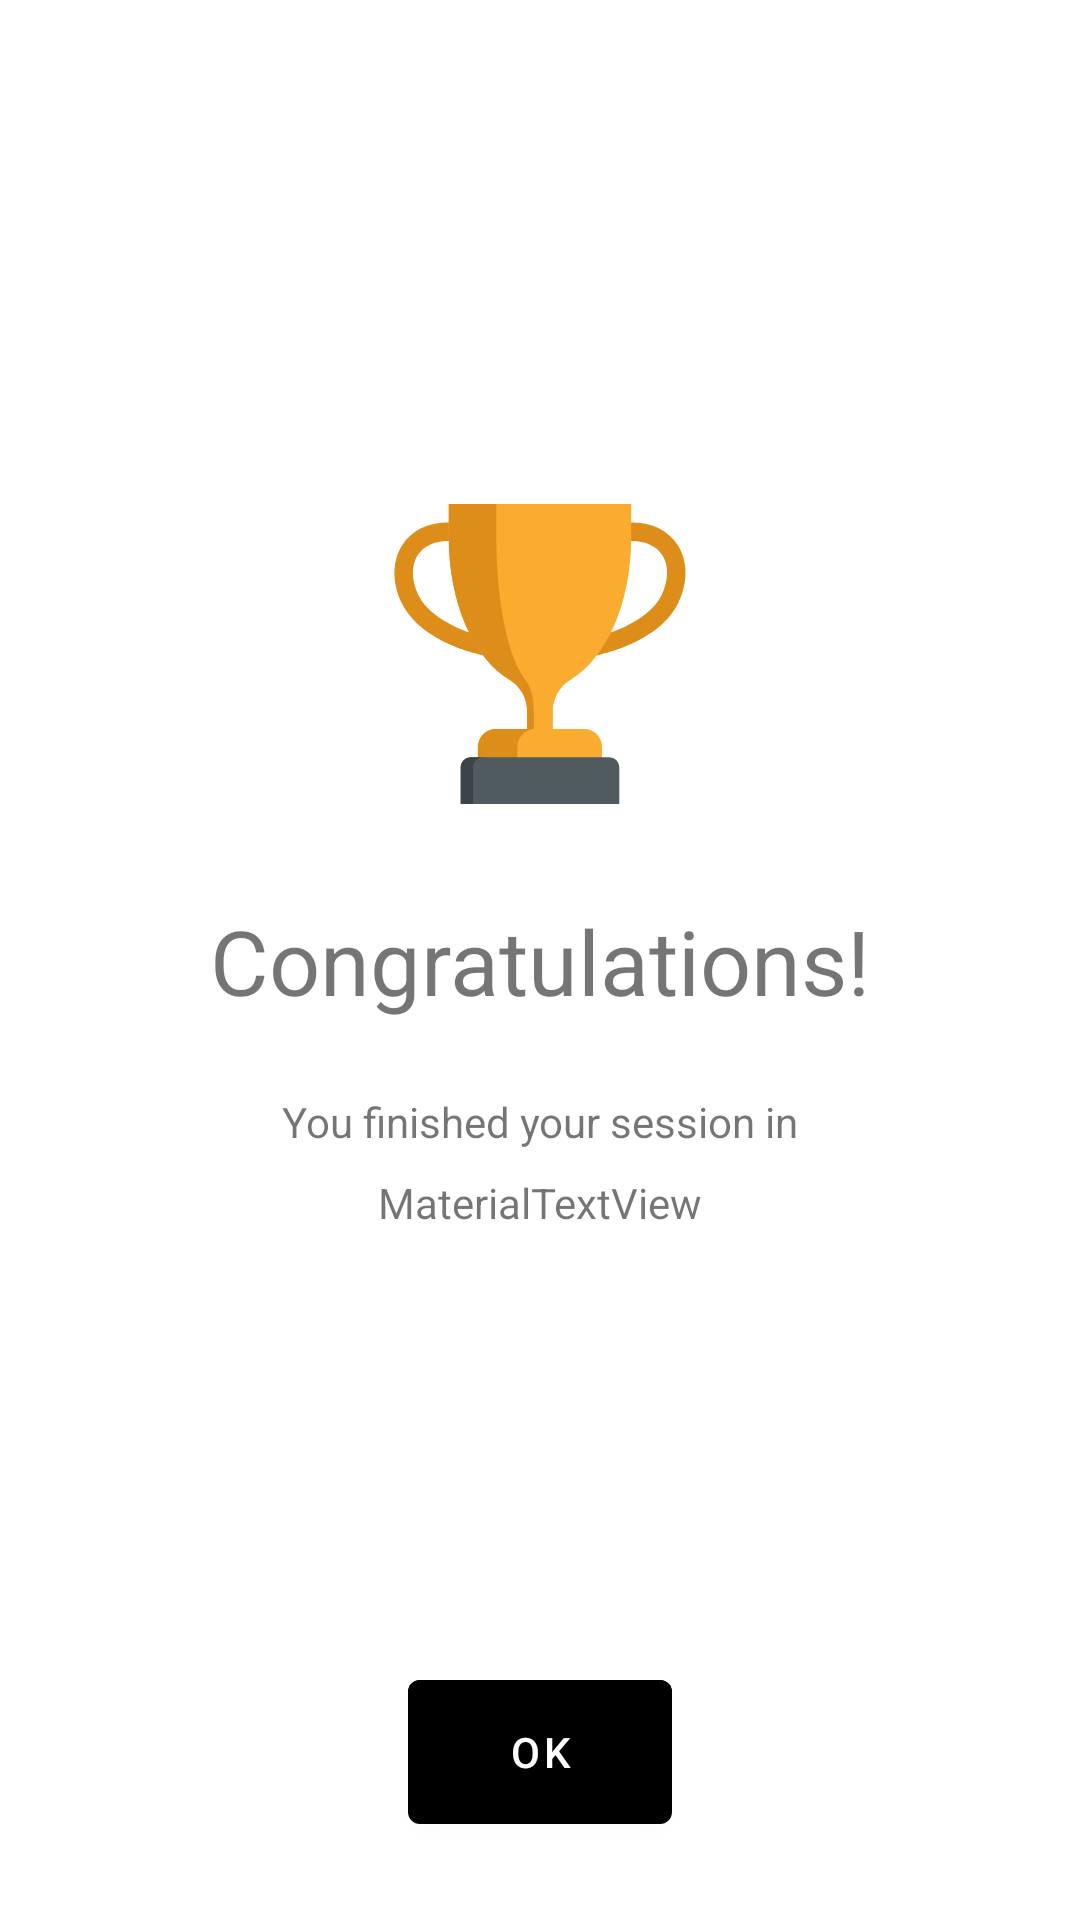

Named icons in this screenshot (1080 × 1920) and their bounding boxes, (x1, y1, x2, y2):
trophy: (394, 504, 686, 804)
